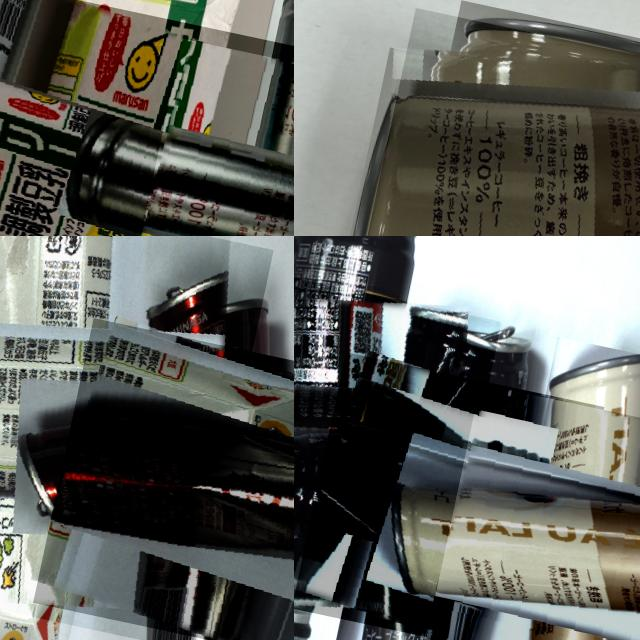Aluminium Foil: (0, 236, 273, 640), (32, 318, 294, 640), (0, 0, 294, 236), (0, 0, 123, 236)
Can: (294, 352, 604, 640), (294, 269, 501, 638), (334, 7, 640, 236), (420, 383, 640, 640), (121, 38, 294, 236)
